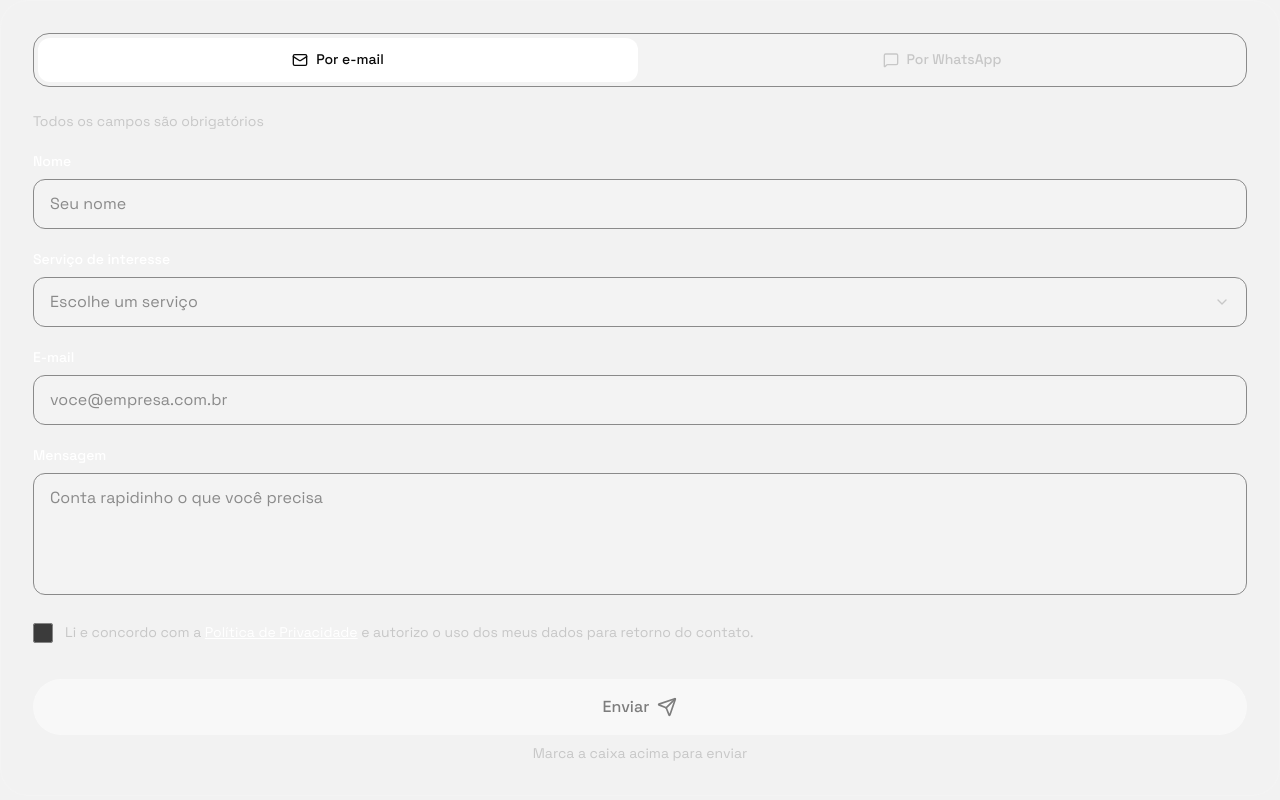
Scenario: ContactForm sending, success and error › clears the whole form with Enviar outra
Type "Ana Lima" into the field labelled "Nome" at x=640, y=204, box [33,179,1247,229]
Click the button "Escolhe um serviço" at x=124, y=302, box [33,277,1247,327]
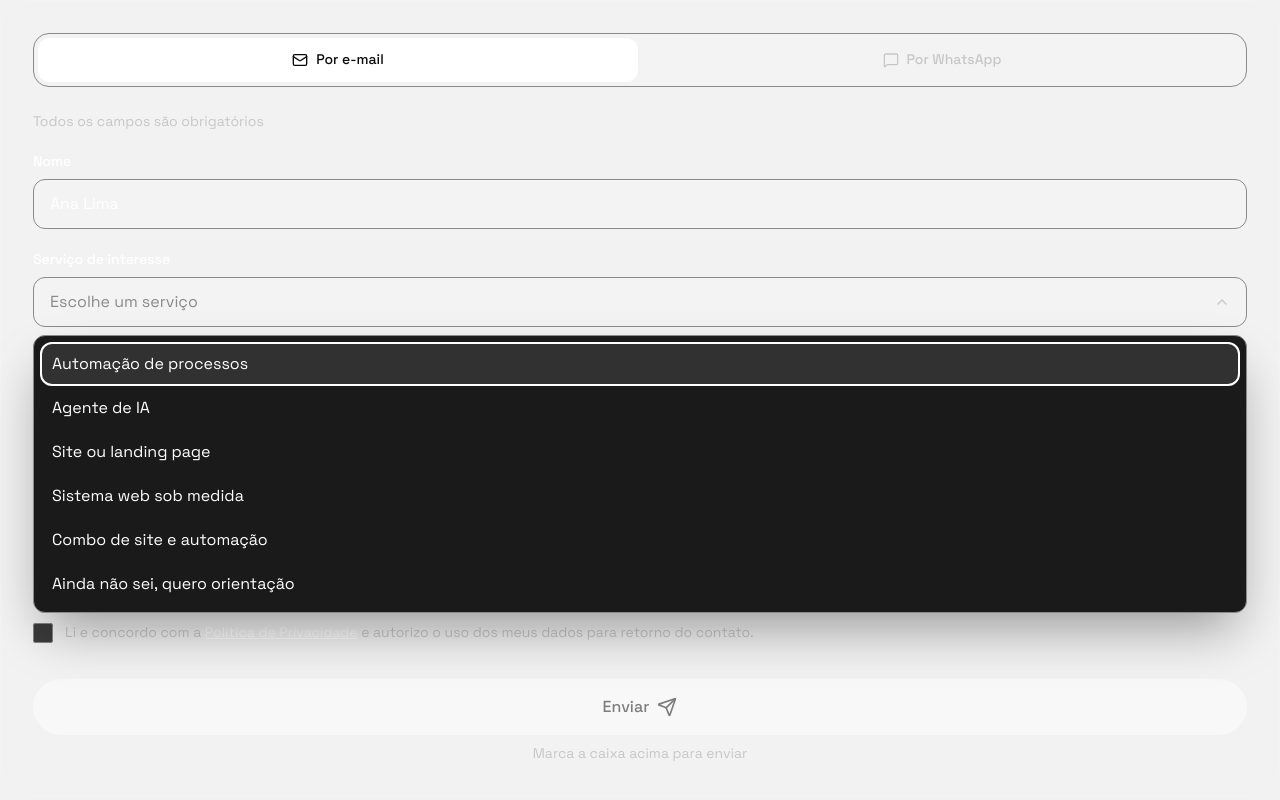
Click the option "Automação de processos" at x=150, y=364, box [40,342,1240,386]
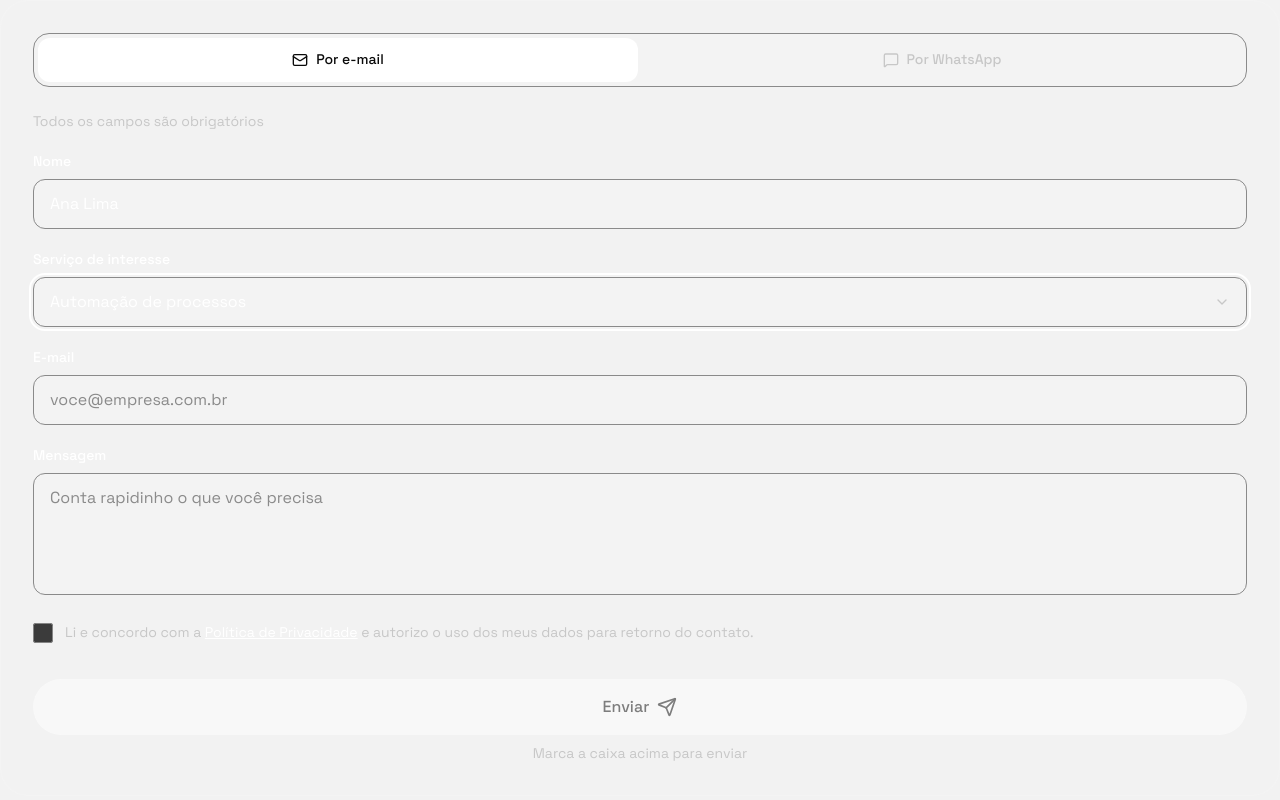
Now the list is gone
Type "ana@example.com" into the field labelled "E-mail" at x=640, y=400, box [33,375,1247,425]
Type "Quero automatizar notas fiscais" into the text box labelled "Mensagem" at x=640, y=534, box [33,473,1247,595]
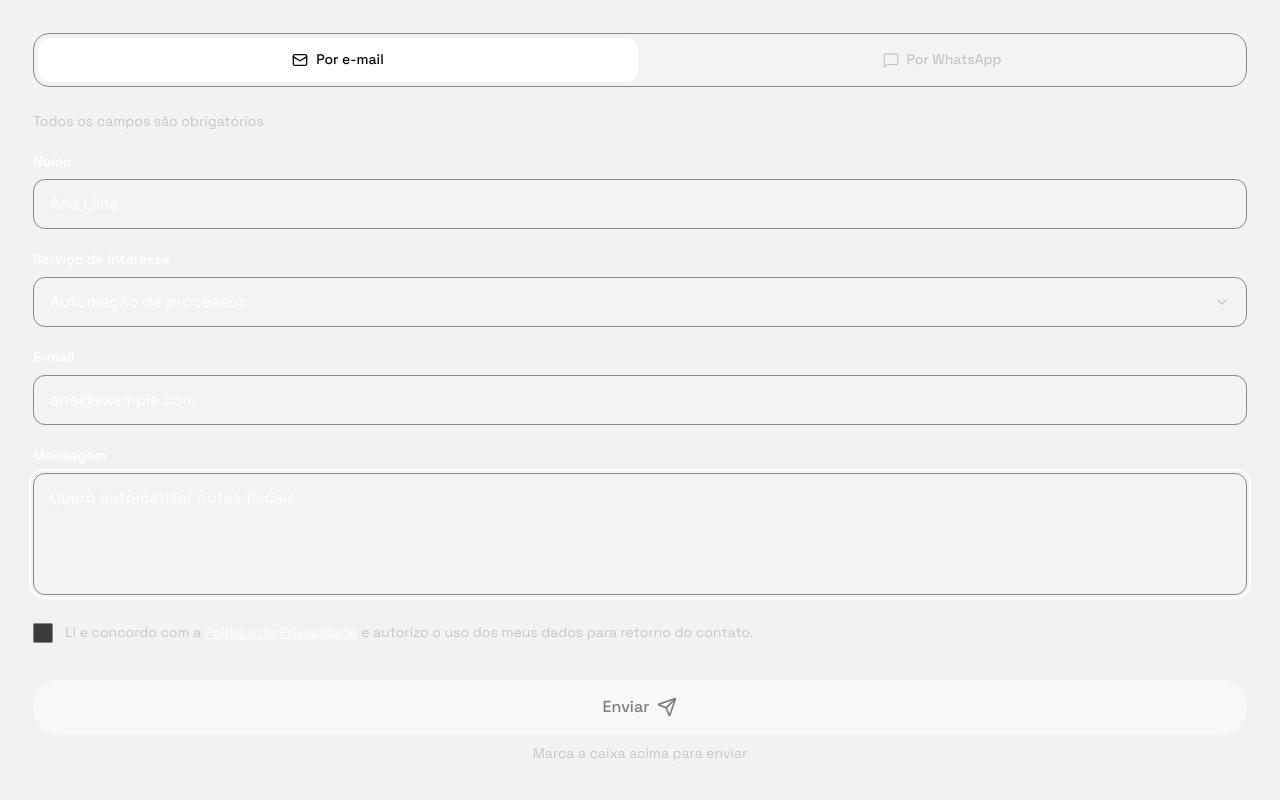
Click the checkbox at x=43, y=633, box [33,623,53,643]
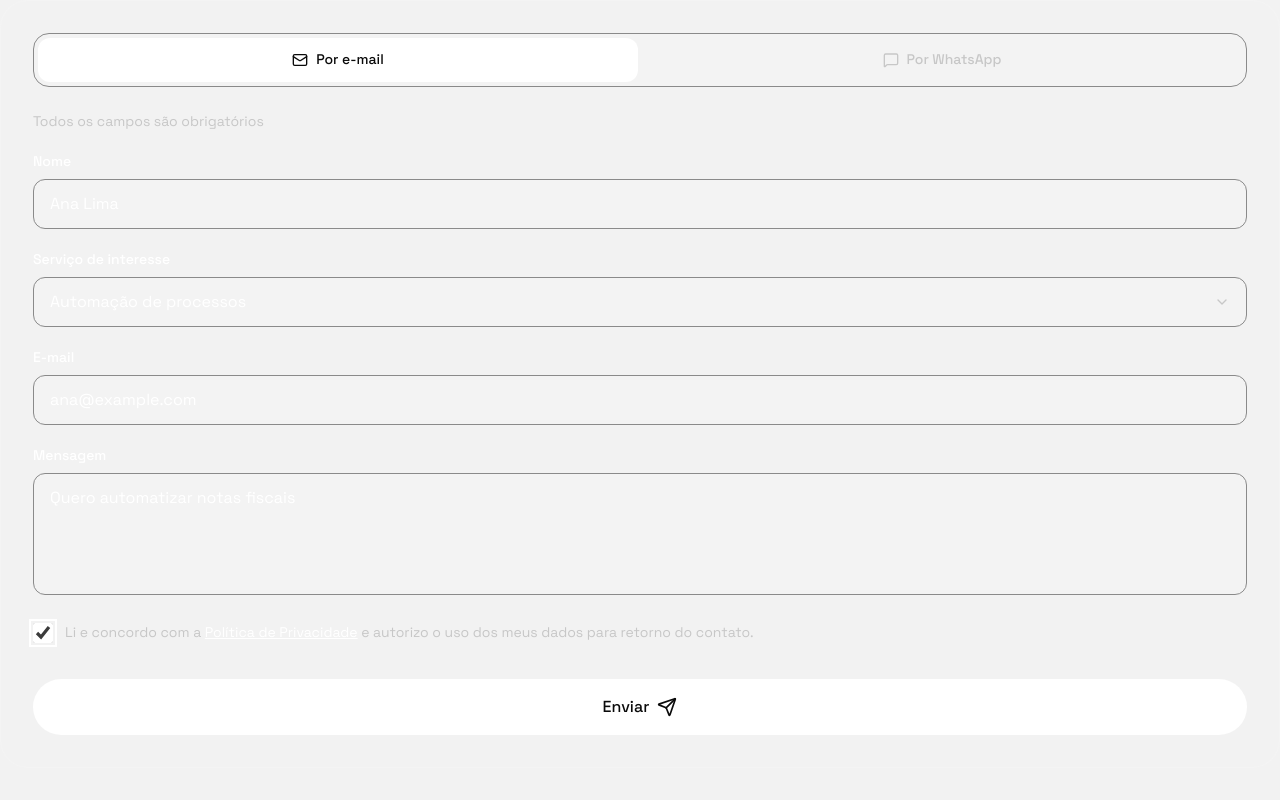
Click the button "Enviar" at x=640, y=707, box [33,679,1247,735]
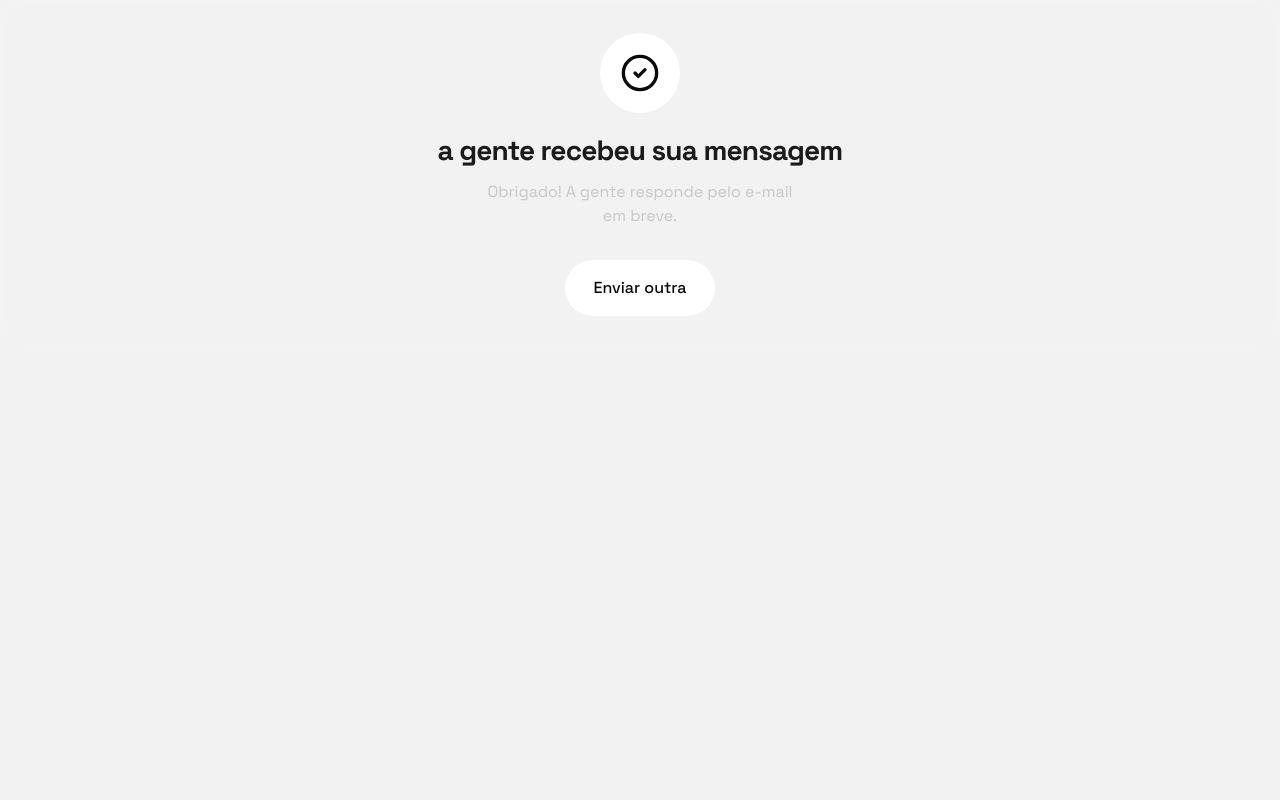
Click the button "Enviar outra" at x=640, y=288, box [566,260,714,316]
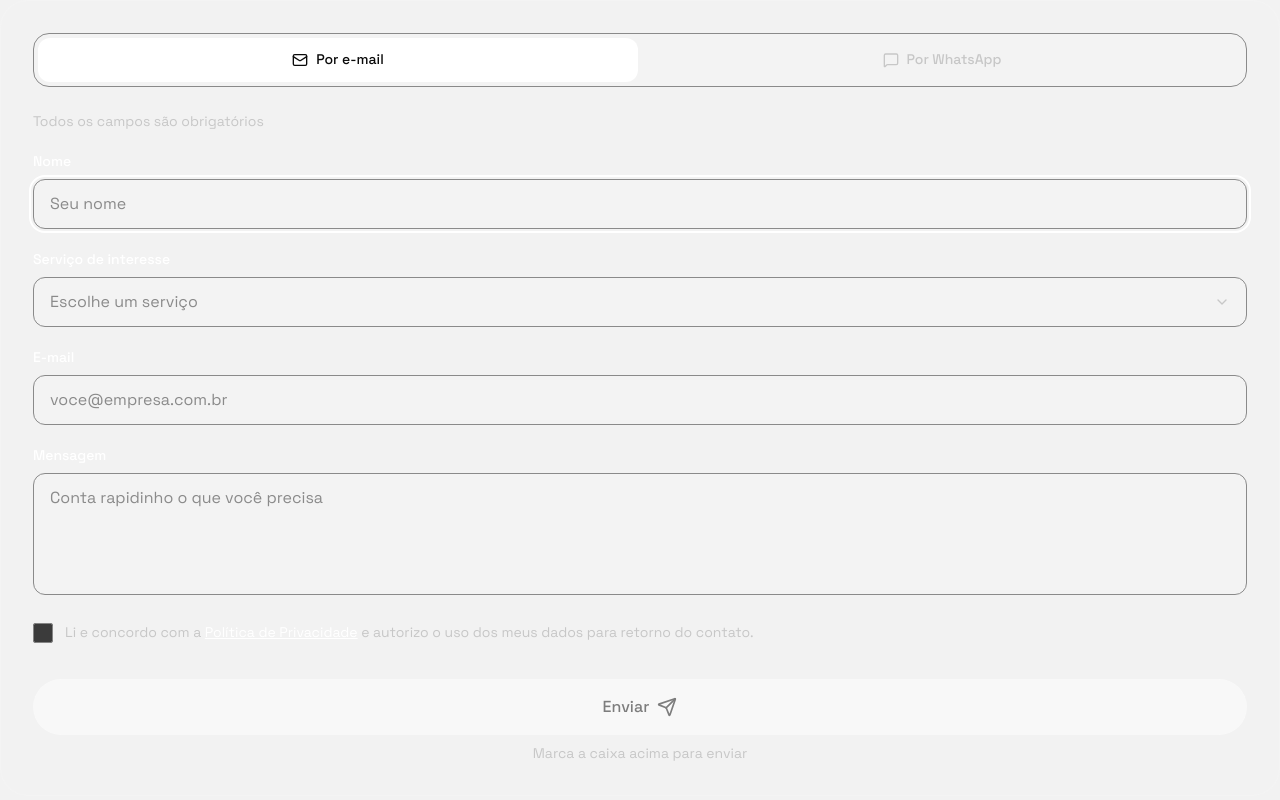
Now the field labelled "Nome" is empty, box [33,179,1247,229]
Now the field labelled "E-mail" is empty, box [33,375,1247,425]
Now the text box labelled "Mensagem" is empty, box [33,473,1247,595]
